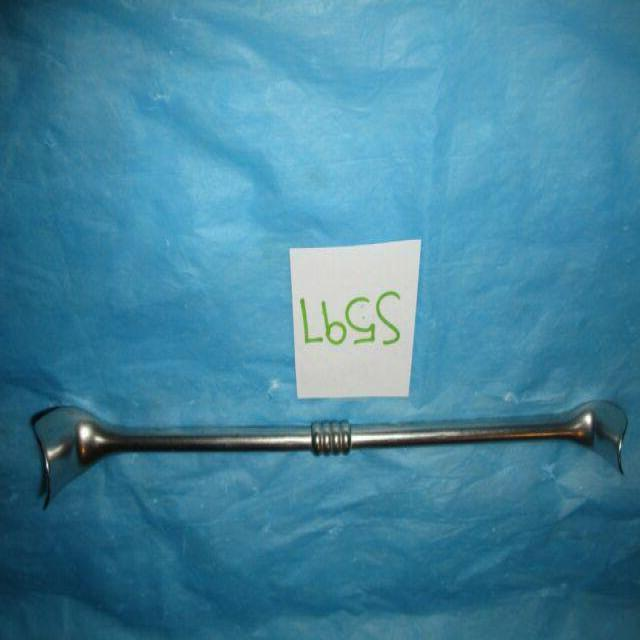Richardson: (27, 393, 632, 516)
